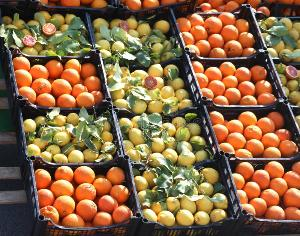orange: (34, 161, 130, 229), (133, 164, 234, 224), (22, 110, 118, 162), (206, 106, 300, 158), (16, 54, 106, 104), (123, 109, 211, 159), (110, 61, 198, 109), (238, 158, 300, 220), (183, 10, 262, 55), (197, 61, 283, 100), (96, 12, 178, 52), (7, 14, 89, 54)
